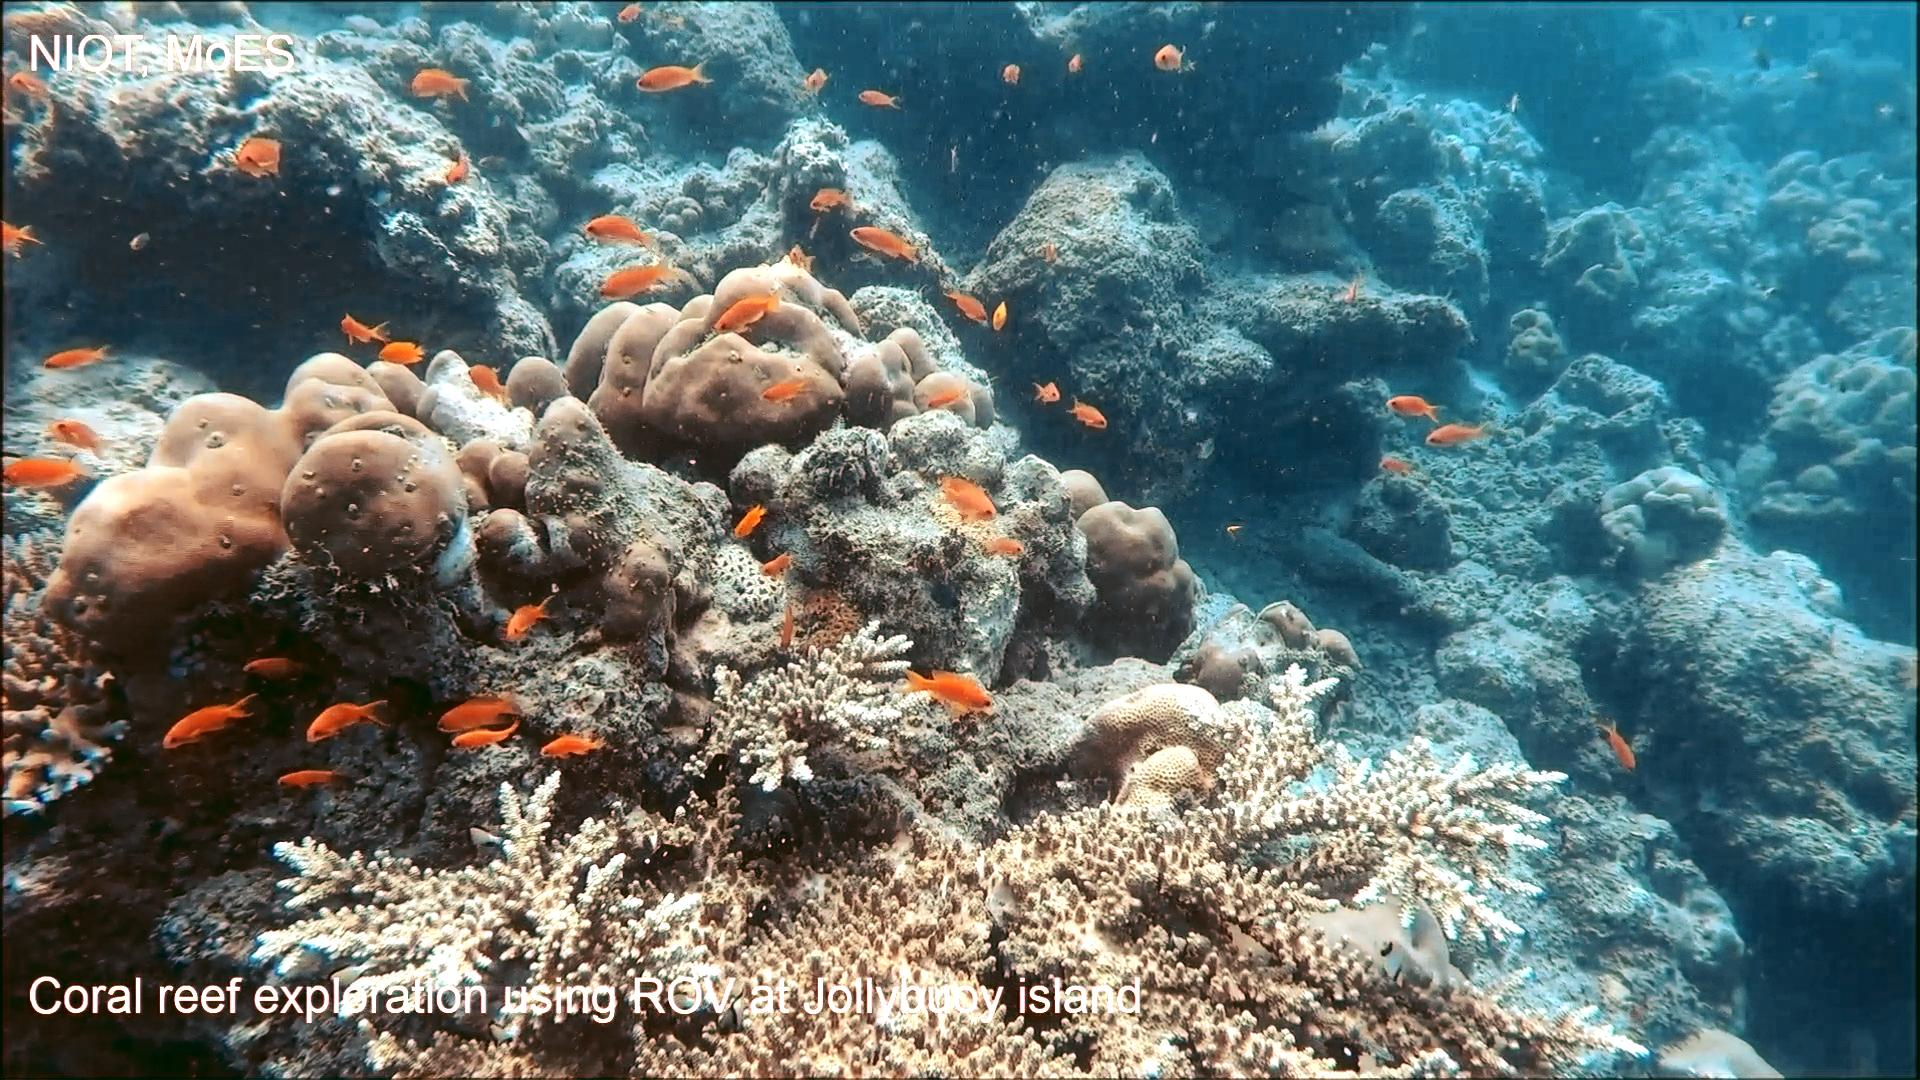Porites-Porites pukoensis: (36, 342, 469, 664), (532, 246, 1000, 451)
